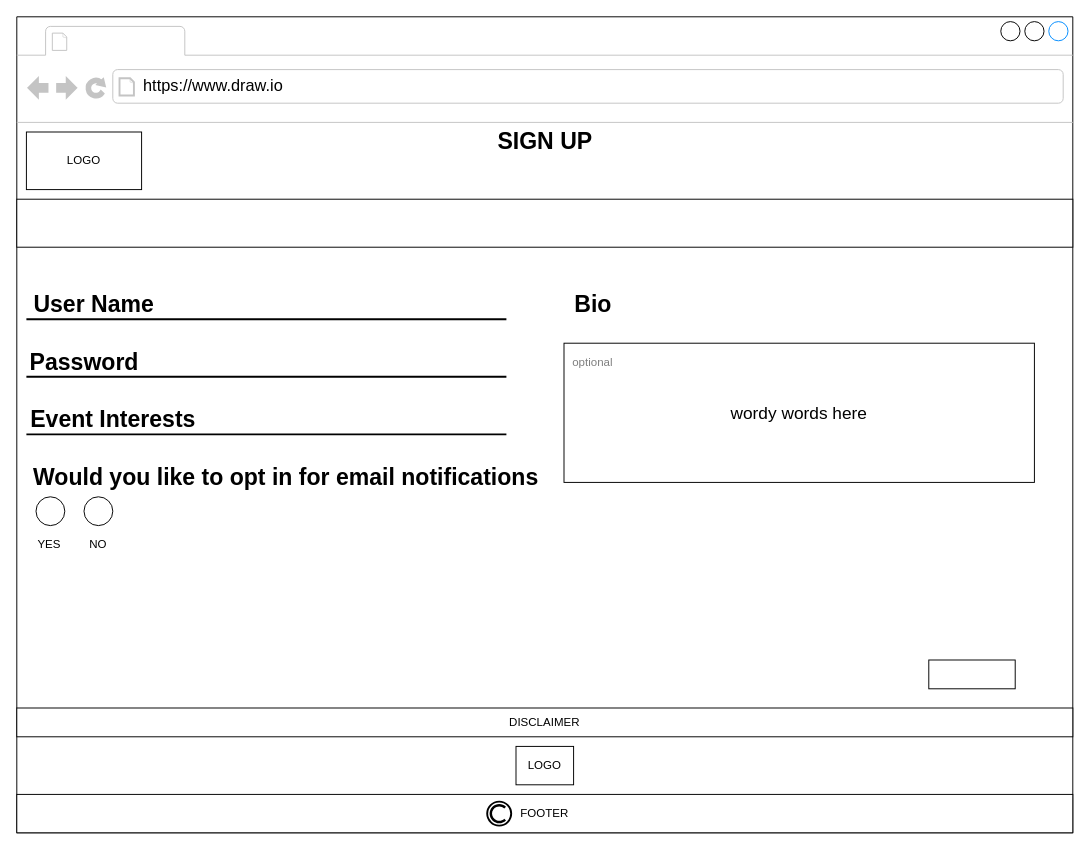
Image size: 1090x850. Some labels were removed from this diagram. The shapes that lost their labels are listed below. From the top down, each one's box as (x1, y1, x2, y2) in pixels, then its label:
(73, 27, 180, 53): Page 1
(16, 198, 1073, 247): BANNER/ COOL PIC
(928, 659, 1015, 689): Finish
